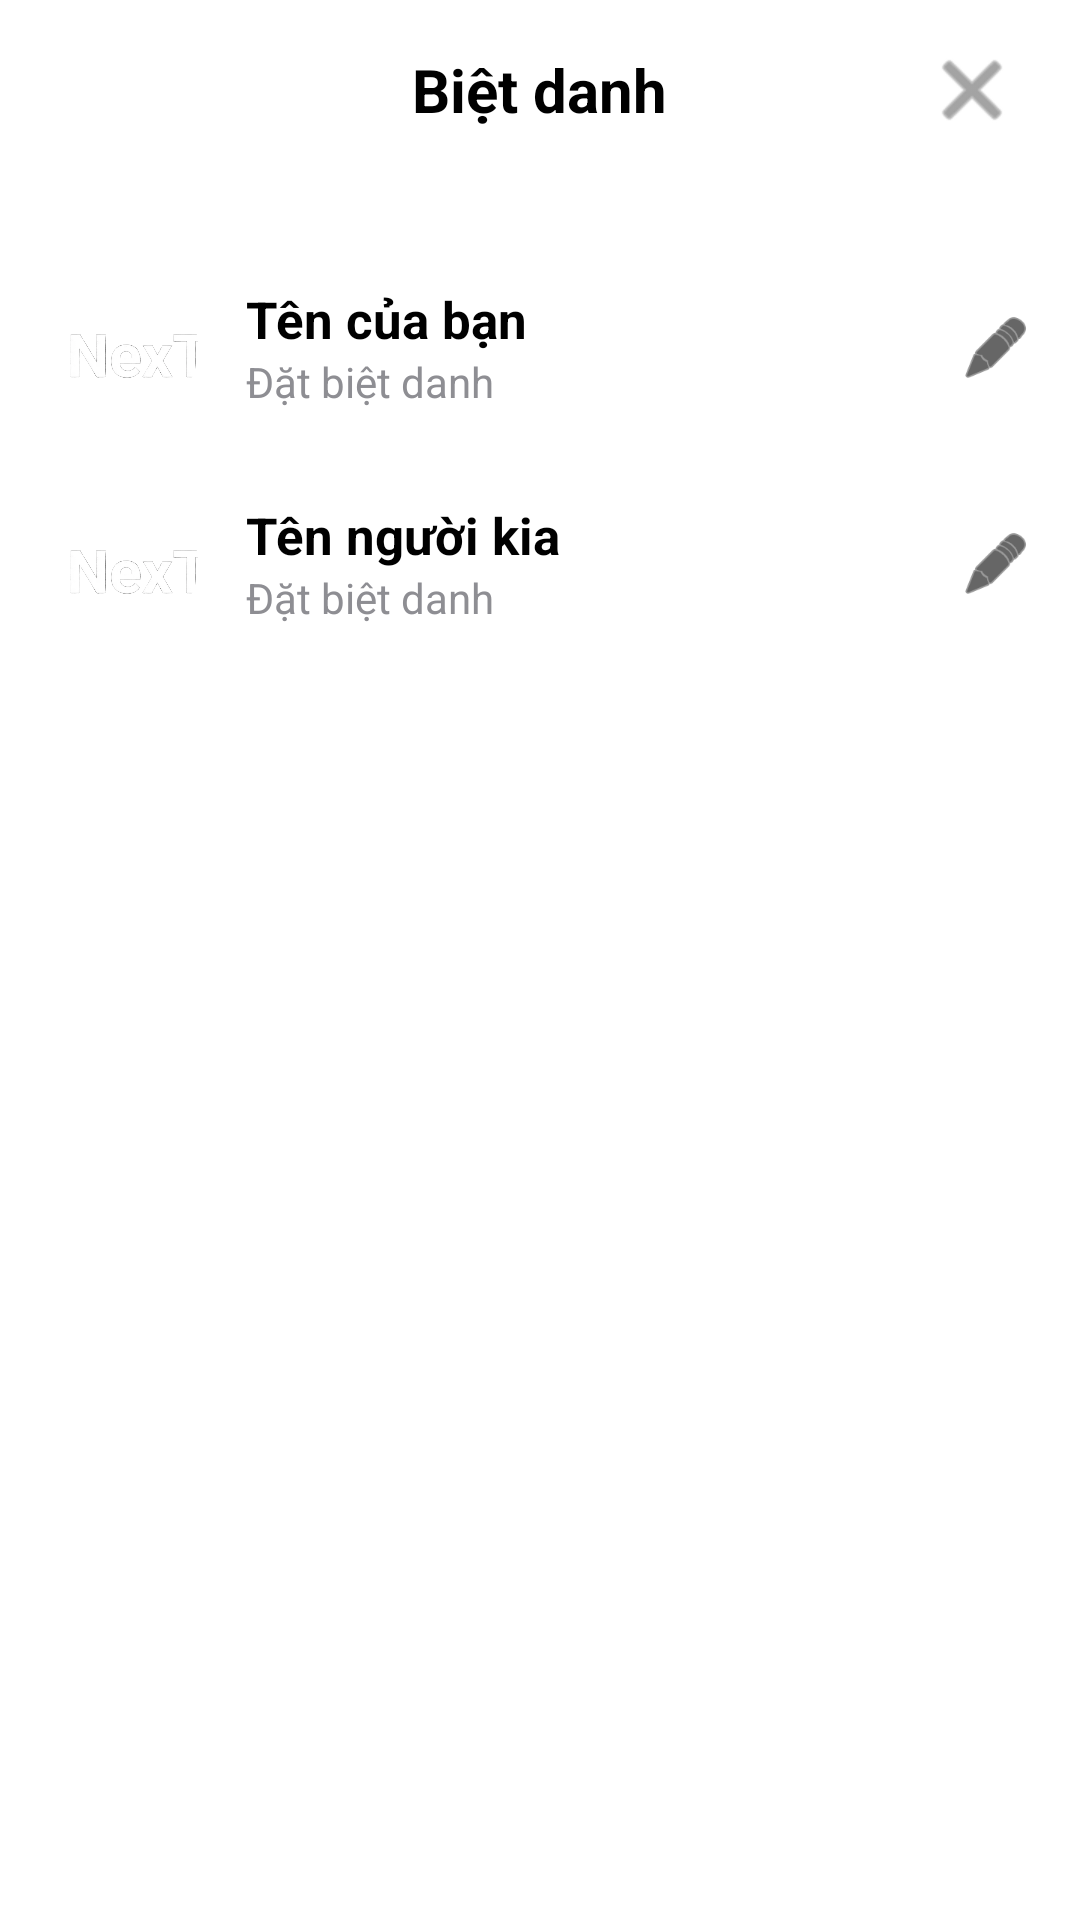

Named icons in this screenshot (1080px×1920px) and their bounding boxes, bbox=(x1, y1, x2, y2):
close clear cancel: bbox=(942, 60, 1002, 120)
edit: bbox=(965, 317, 1026, 378), bbox=(965, 533, 1026, 594)
